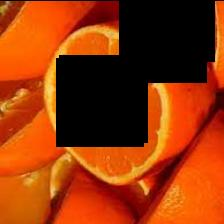orange: (45, 19, 215, 183), (107, 90, 224, 224), (145, 109, 224, 224), (1, 0, 96, 80), (52, 166, 136, 224), (1, 107, 65, 175), (177, 0, 223, 86), (0, 168, 50, 224), (1, 86, 44, 142), (51, 151, 74, 197)
